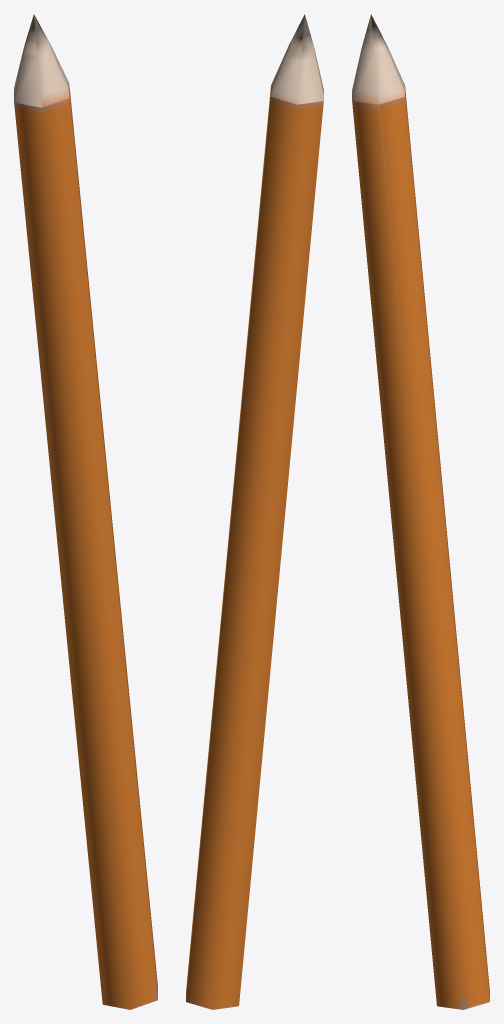
The model's file is pencil pot exp resend.fbx.
3 views of the same model, side by side, from view 1: azimuth 30°, elevation 25°; view 2: azimuth 210°, elevation 25°; view 3: azimuth 330°, elevation 25° (orthographic). The views are drawn at different scales.
Visible parts, largest first — view 1: Cylinder007; view 2: Cylinder007; view 3: Cylinder007.
Part boxes in pixels (<box>): Cylinder007: <box>14,14,157,1009</box>; Cylinder007: <box>186,14,323,1009</box>; Cylinder007: <box>352,14,489,1009</box>.
Bounding box in the file's own units: 1.23 × 8.22 × 0.4092.
